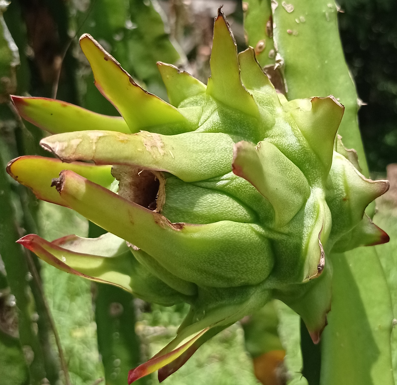Belum Matang: (12, 53, 345, 317)
